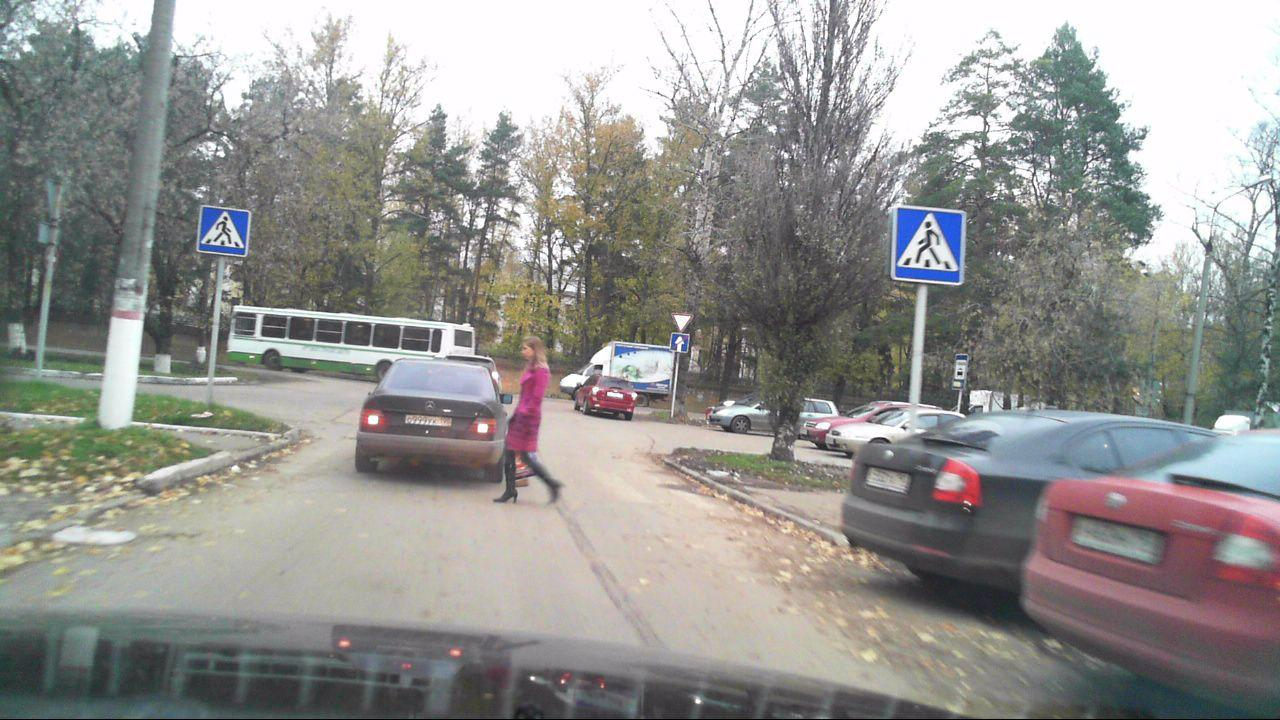2_4: (671, 309, 696, 332)
5_18: (952, 354, 968, 388)
5_19_1: (892, 207, 966, 285)
5_19_2: (200, 203, 253, 257)
5_6: (671, 331, 692, 355)
